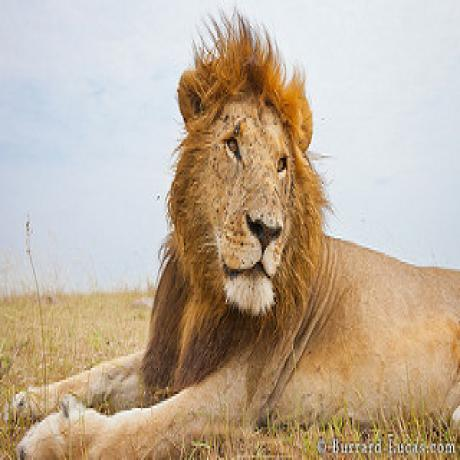Lion: (18, 28, 460, 460)
